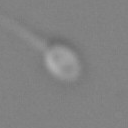normal: (1, 10, 46, 50)
